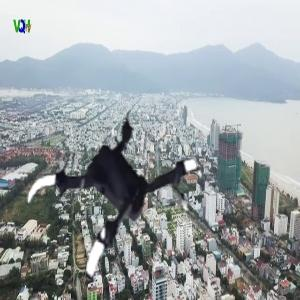drone: (23, 91, 220, 288)
